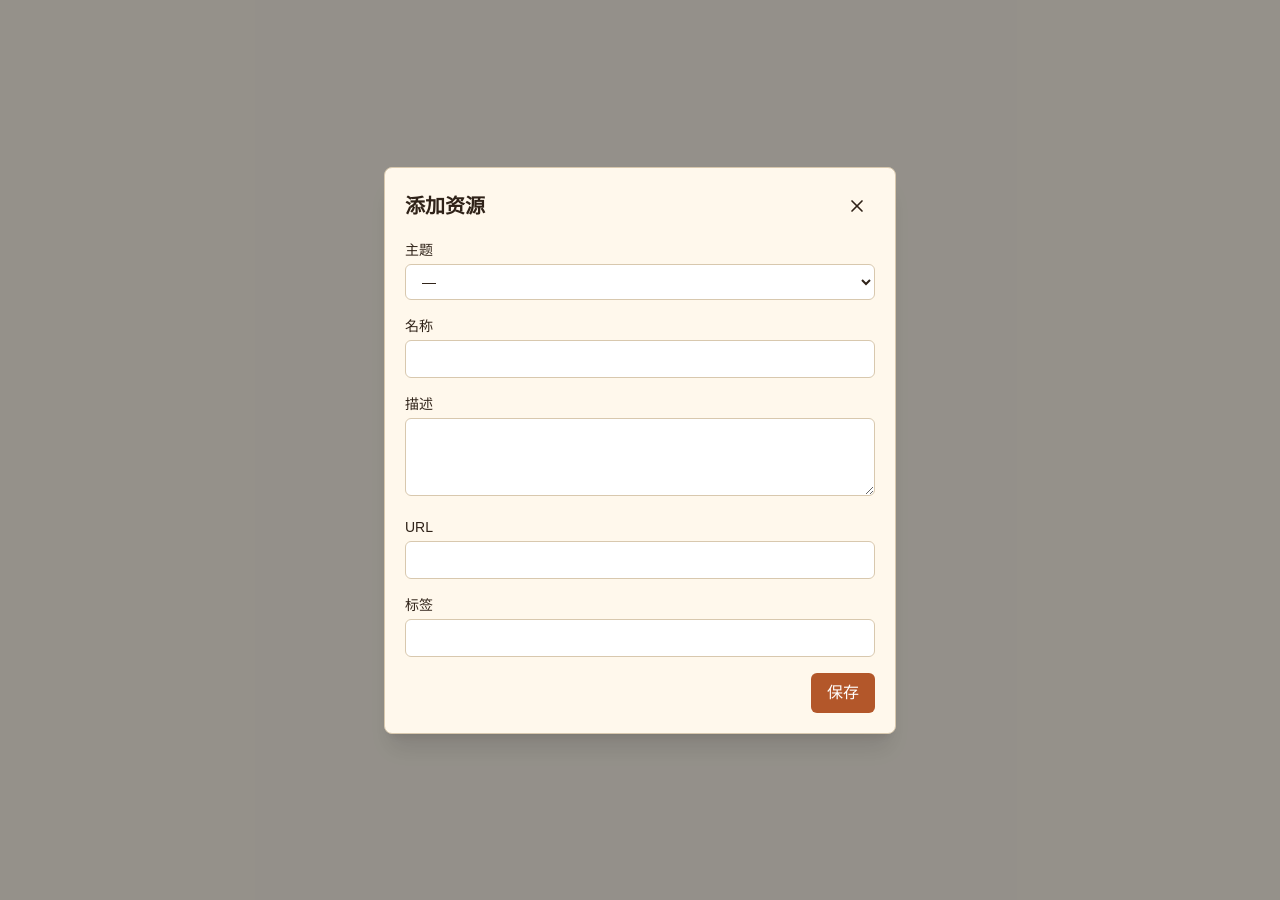
Test: PrivateResourceDialog › shows exact duplicate recommendations without a continue action
Step 1. Select "阅读" in the dropdown labelled "主题" → (640, 282), box top-left (405, 264), bottom-right (875, 300)
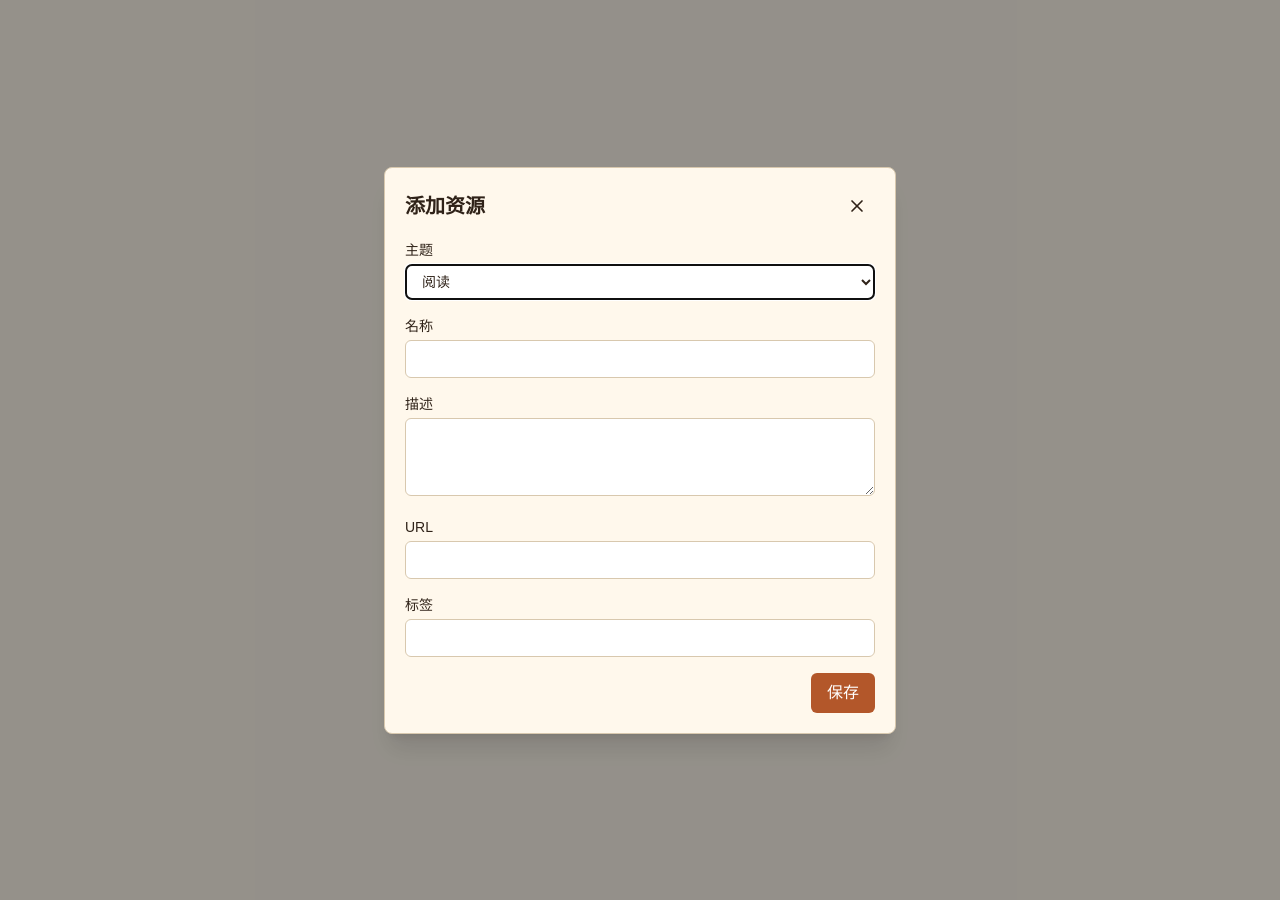
Step 2. Type "  My article  " into the field labelled "名称" → (640, 358), box top-left (405, 340), bottom-right (875, 378)
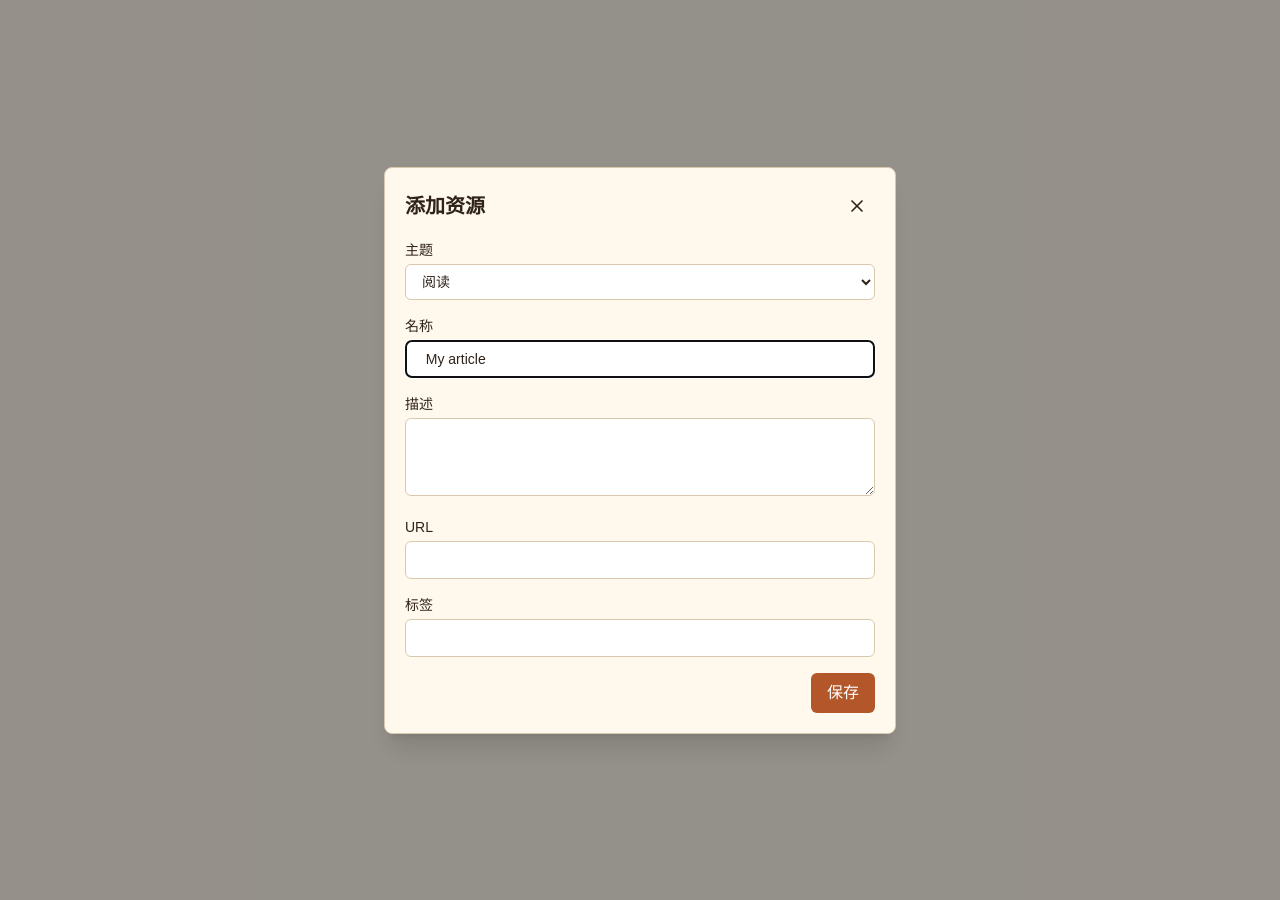
Step 3. Type "  Useful reading  " into the text box labelled "描述" → (640, 456), box top-left (405, 418), bottom-right (875, 496)
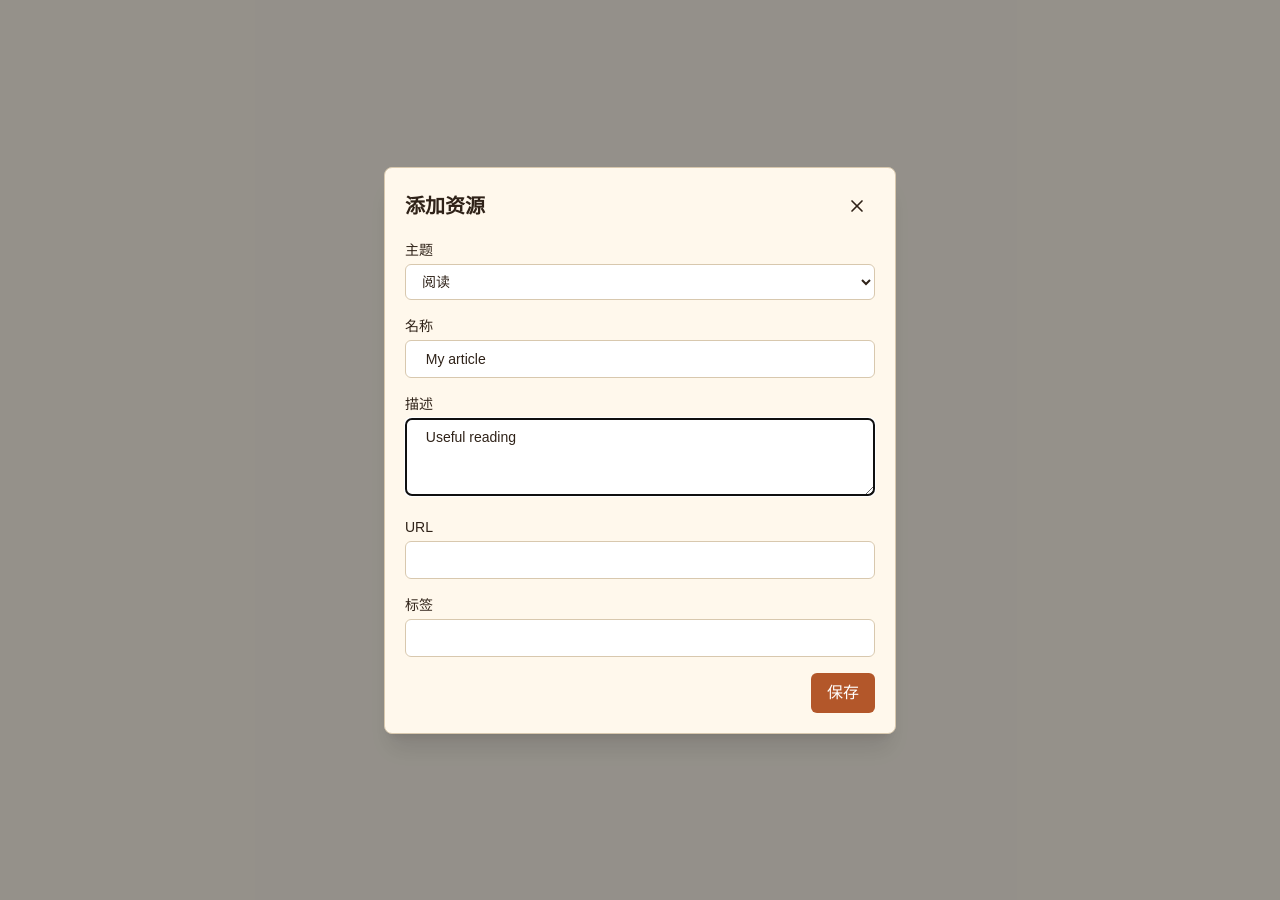
Step 4. Type "https://example.com/new" into the field labelled "URL" → (640, 560), box top-left (405, 540), bottom-right (875, 578)
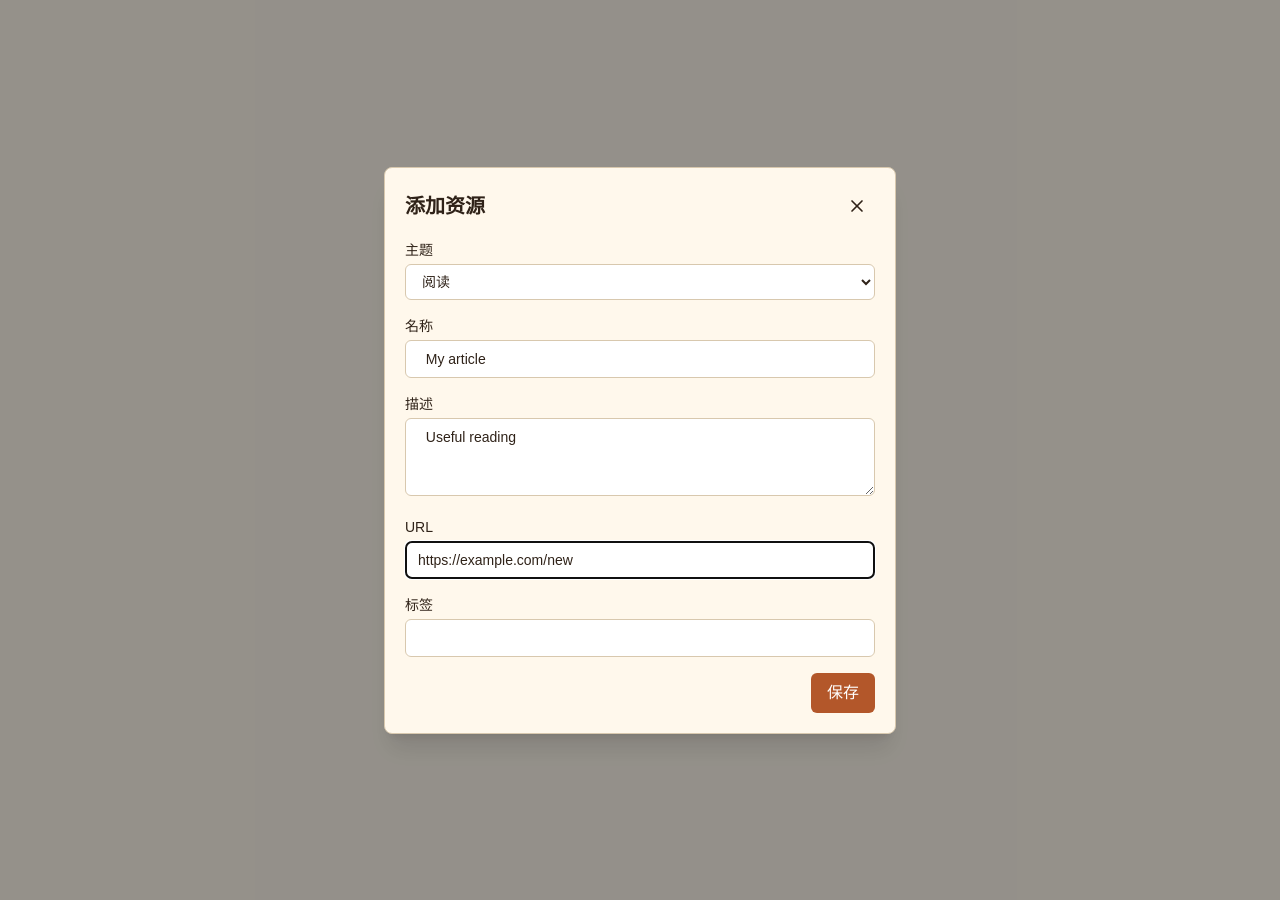
Step 5. Type " news, beginner,news " into the field labelled "标签" → (640, 638), box top-left (405, 618), bottom-right (875, 656)
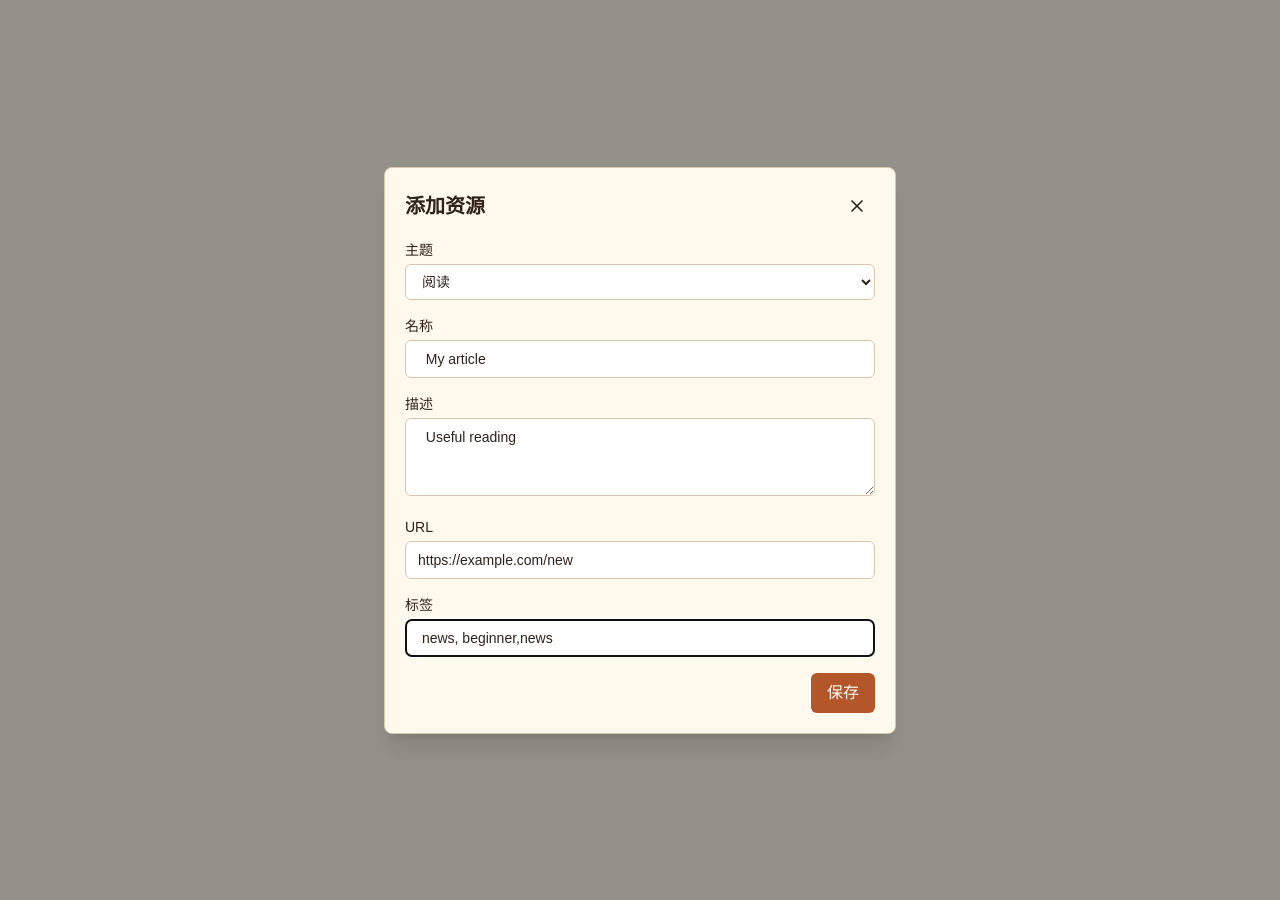
Step 6. Click the button "保存" → (843, 692), box top-left (811, 672), bottom-right (875, 712)
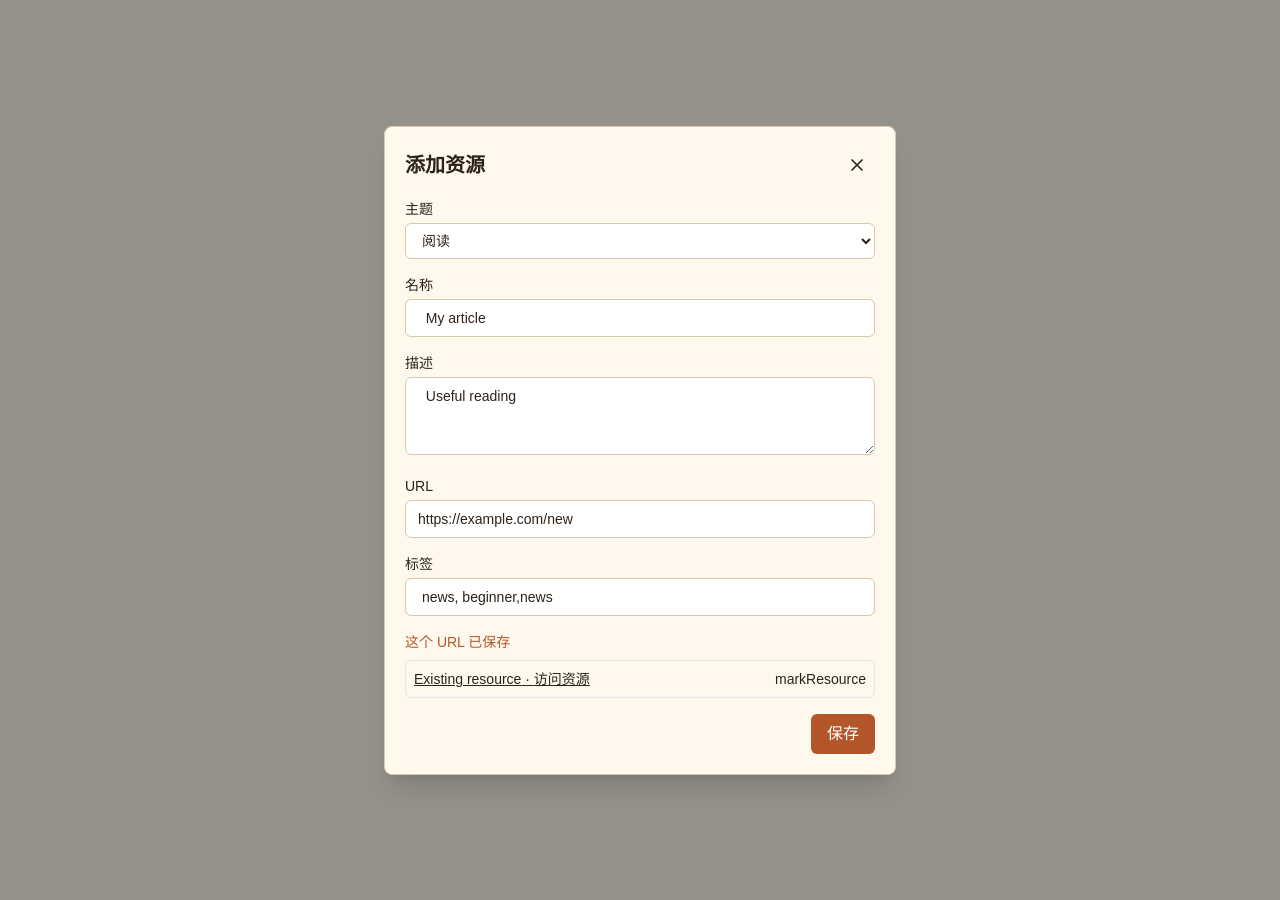
Now the text "这个 URL 已保存" is shown, box top-left (405, 634), bottom-right (510, 650)
